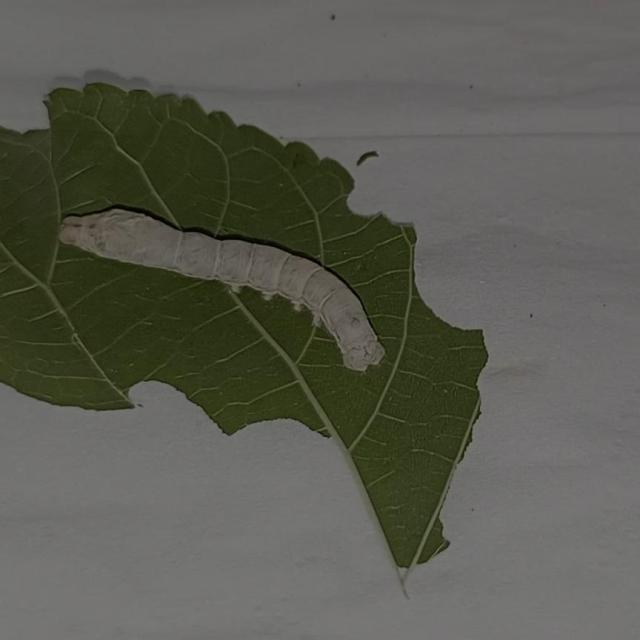Healthy: (45, 180, 412, 426)
